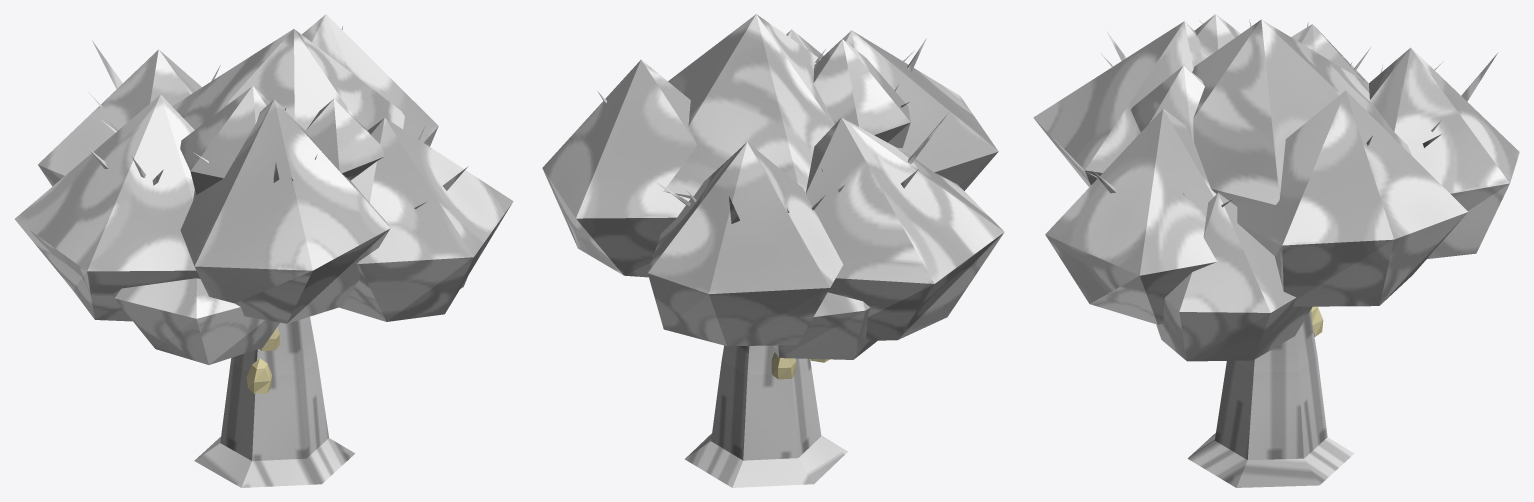
Rendered from tree_gauranlen.obj.
3 views of the same model, side by side, from view 1: azimuth 30°, elevation 25°; view 2: azimuth 150°, elevation 25°; view 3: azimuth 270°, elevation 25° (orthographic). The views are drawn at different scales.
Parts seen in each view (by area): view 1: tree_gauranlen; view 2: tree_gauranlen; view 3: tree_gauranlen.
Boxes of the visible parts, x1=… form: tree_gauranlen: x1=15, y1=14, x2=513, y2=487; tree_gauranlen: x1=542, y1=14, x2=1004, y2=487; tree_gauranlen: x1=1033, y1=14, x2=1519, y2=487.
Size of the model in its own units: 0.9745 by 1.03 by 1.02.
